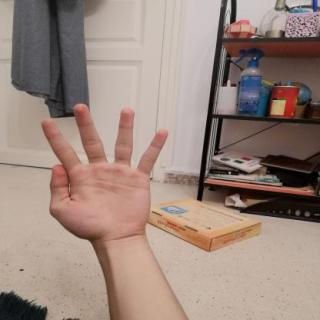SHEEN: (30, 98, 178, 250)
